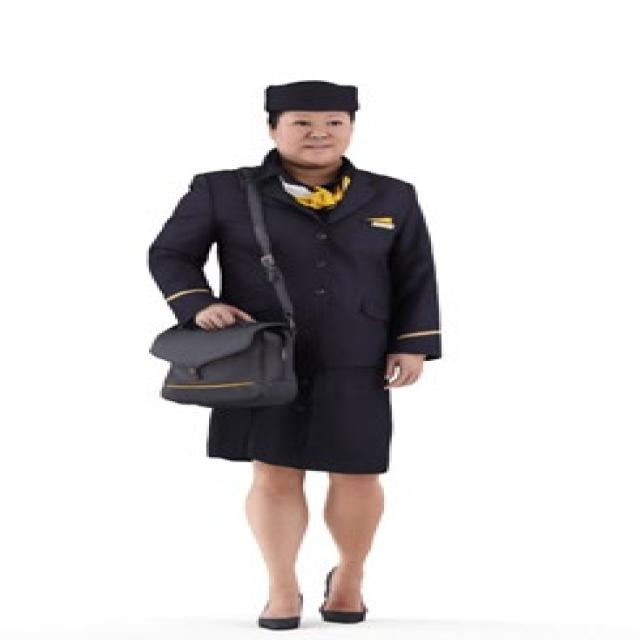standing: (144, 79, 440, 636)
